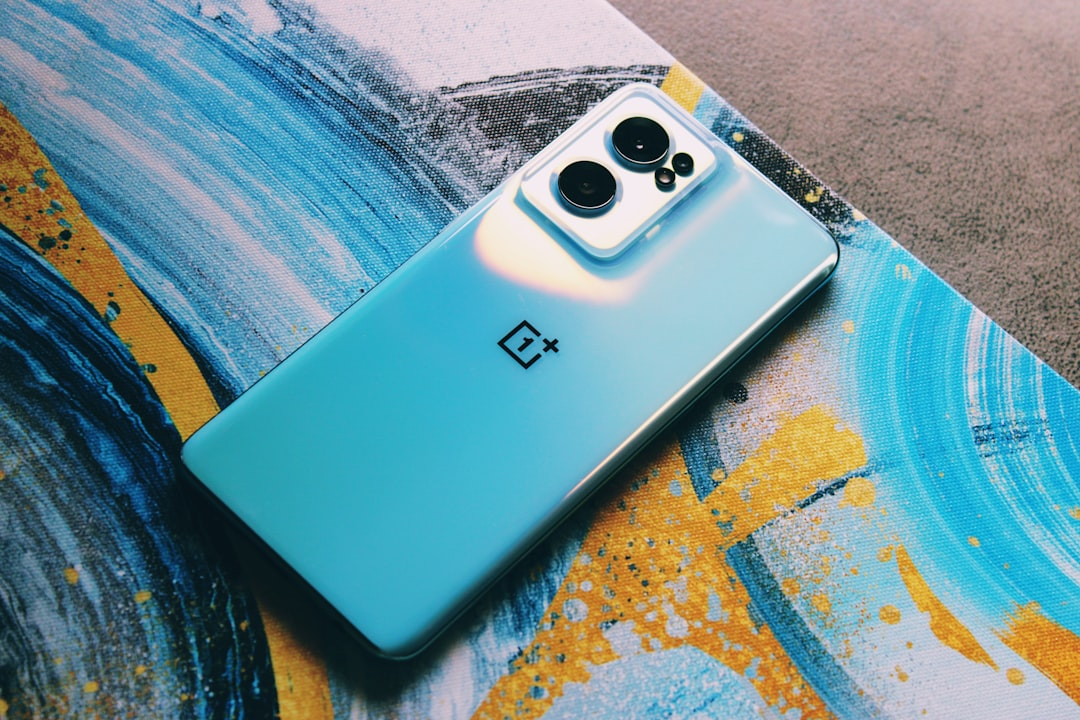phone: (176, 78, 840, 667)
